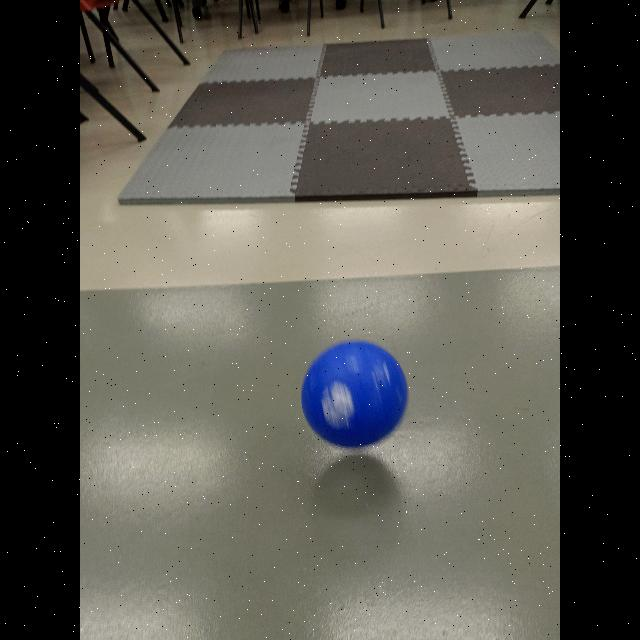B: (302, 342, 408, 444)
